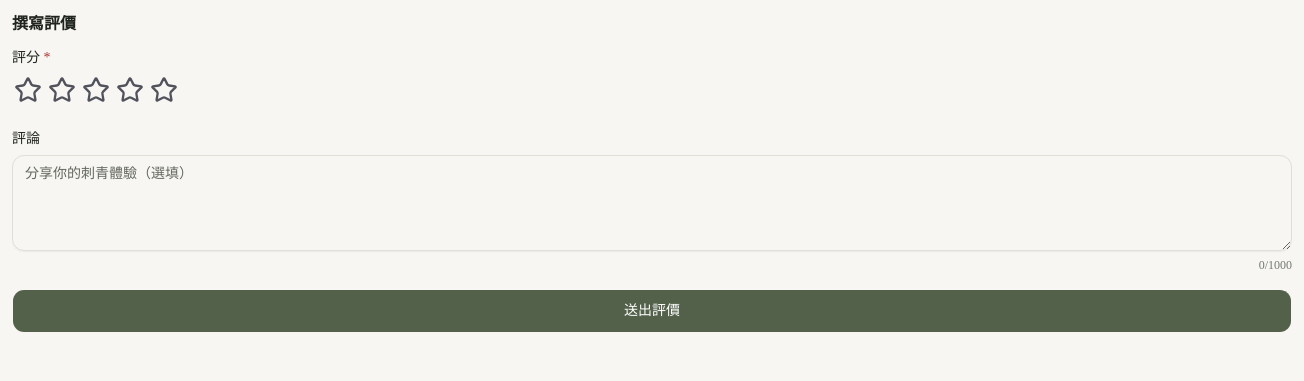
Scenario: ArtistReviewFormSection › surfaces a generic error (does not crash) when the route returns 400
Step 1. Click the radio button named "5 顆星" → (164, 90), box [148,74,180,106]
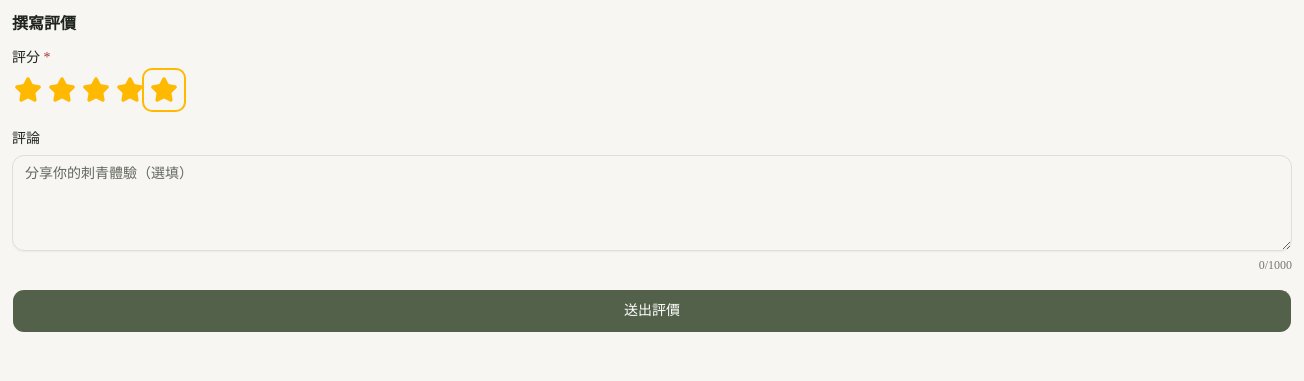
Step 2. Click the button "送出評價" → (652, 311), box [12,289,1292,333]
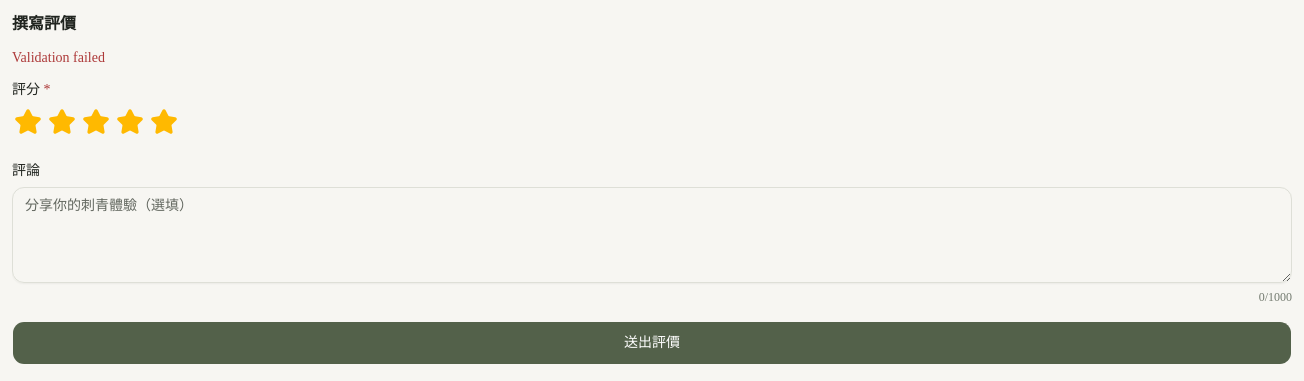
Now the message "Validation failed" is shown, box [12,50,105,65]
